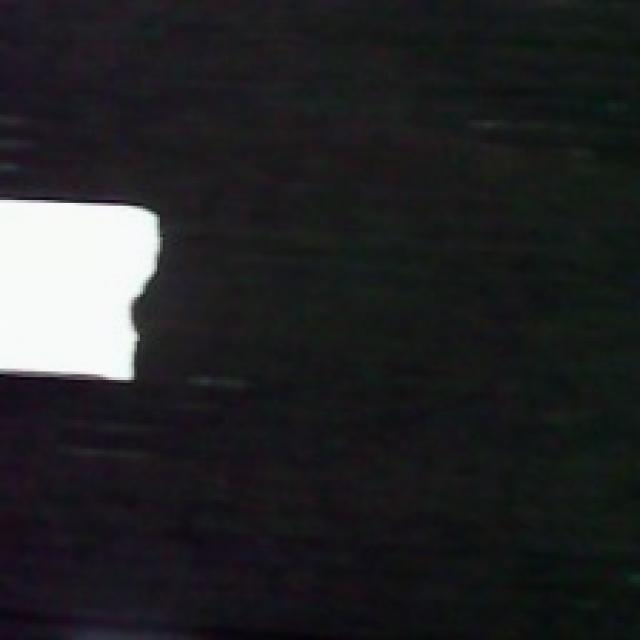defected: (3, 188, 166, 383)
